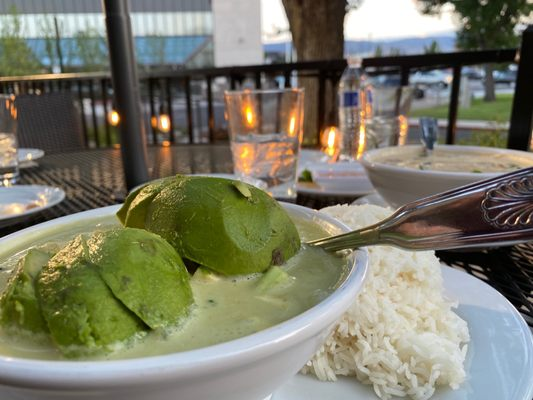pizza: (223, 87, 305, 202), (0, 93, 20, 185)
salad: (302, 168, 533, 255)
sushi: (0, 174, 369, 400), (359, 143, 533, 209)
